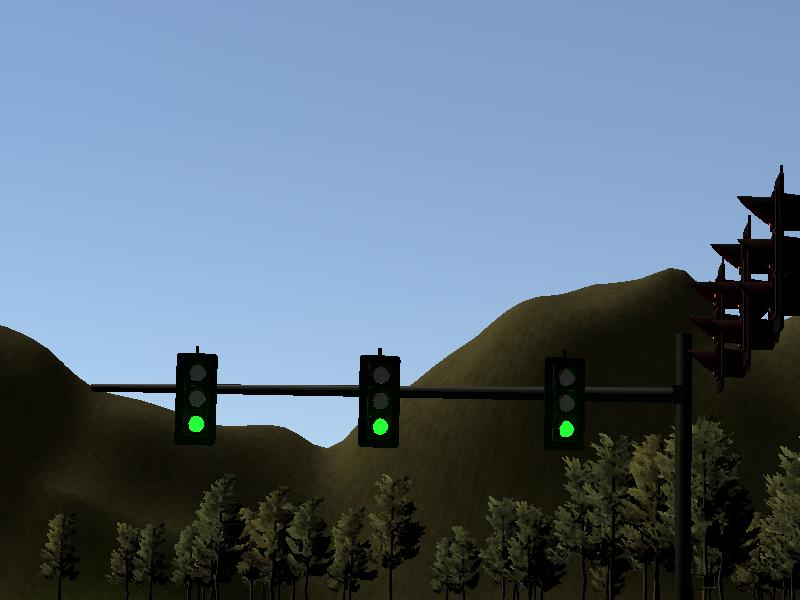not_red: (177, 353, 217, 444), (361, 356, 399, 447), (550, 360, 585, 452)
